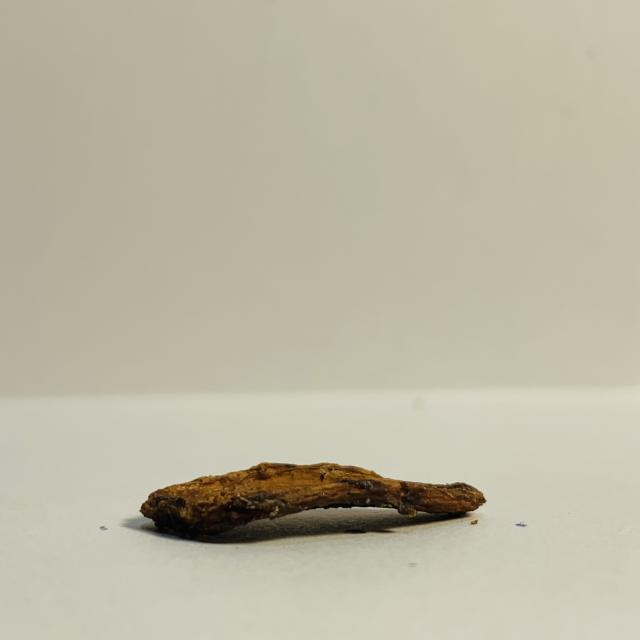Flat_cocoabeans: (33, 383, 535, 574)
